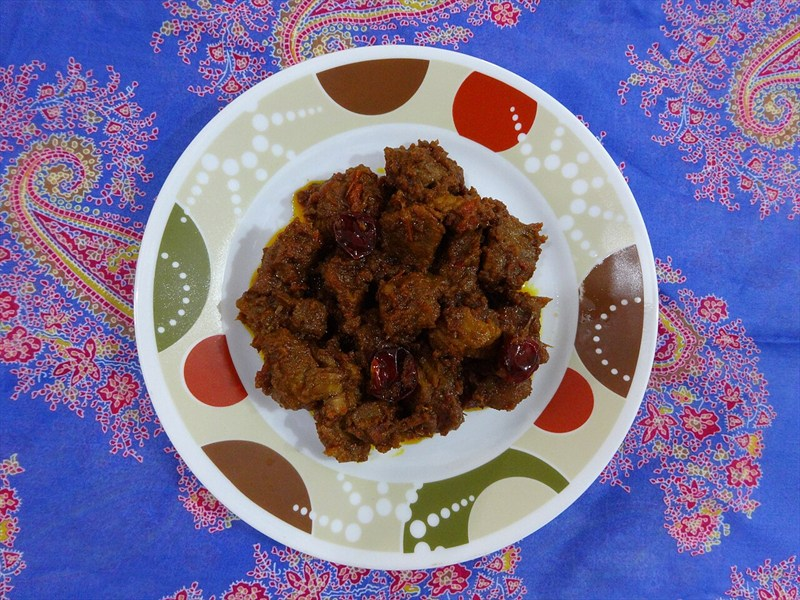Rendang: (122, 44, 668, 546)
